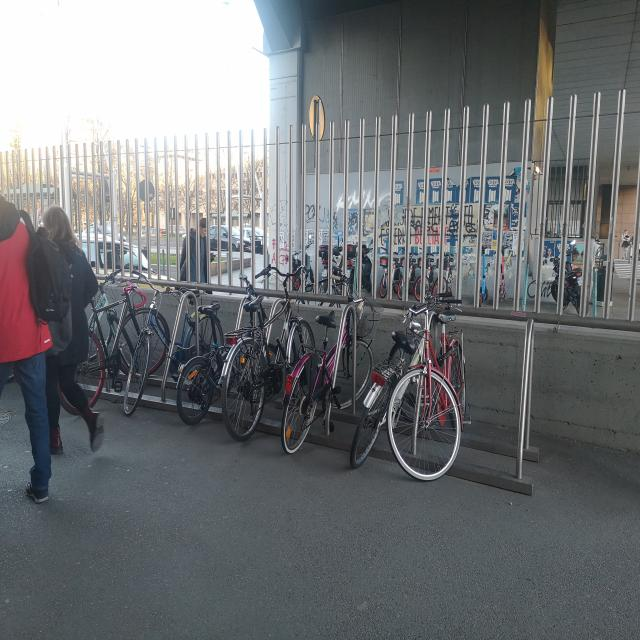Bicycle: (387, 280, 509, 494), (276, 274, 383, 466), (220, 252, 325, 444), (184, 265, 284, 427), (62, 254, 164, 411), (361, 280, 428, 469), (125, 258, 193, 414), (89, 276, 130, 350)
